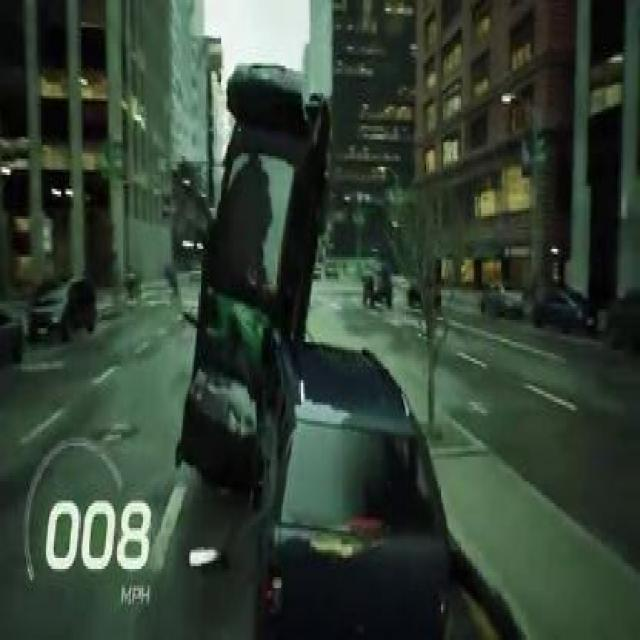accident: (166, 52, 449, 640)
